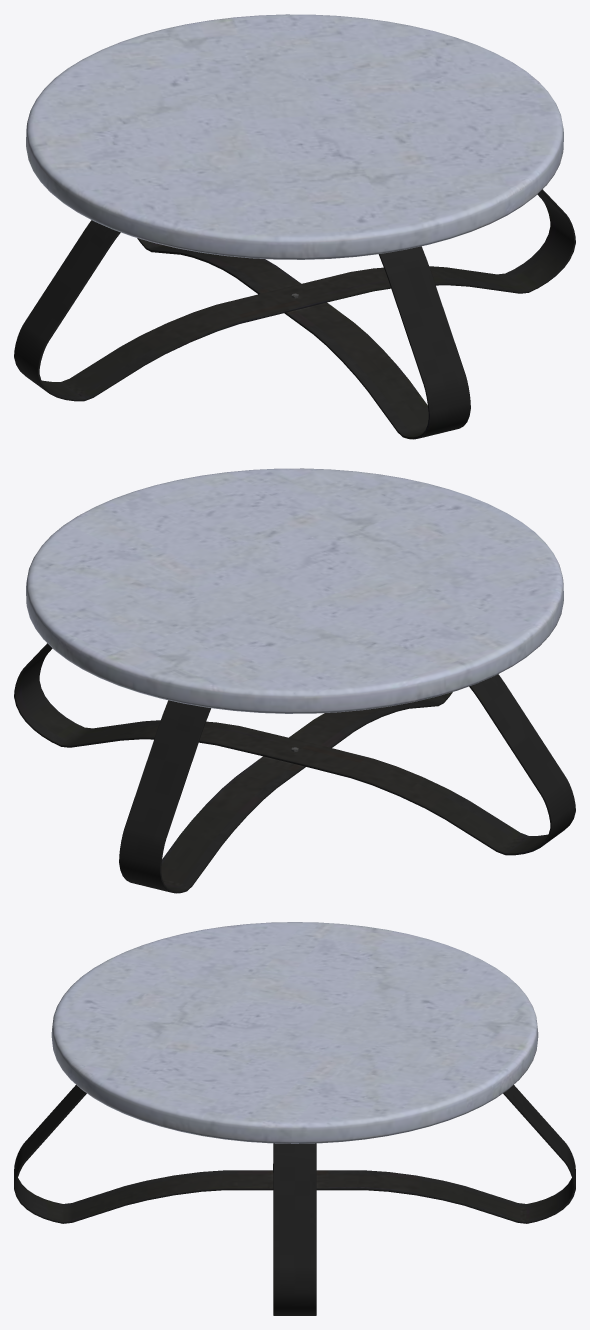
The model's file is coffee_table_round_01.glb.
The picture shows the model from 3 angles, top to bottom: view 1: azimuth 30°, elevation 25°; view 2: azimuth 150°, elevation 25°; view 3: azimuth 270°, elevation 25°; orthographic projection. The views are drawn at different scales.
Parts seen in each view (by area): view 1: coffee_table_round_01; view 2: coffee_table_round_01; view 3: coffee_table_round_01.
Boxes of the visible parts, x1,y1,x2,y2 form: coffee_table_round_01: (14,14,575,439); coffee_table_round_01: (14,468,575,893); coffee_table_round_01: (14,922,575,1315).
Bounding box in the file's own units: 1.3 × 0.491 × 1.3.
1 material, 1 textured.
